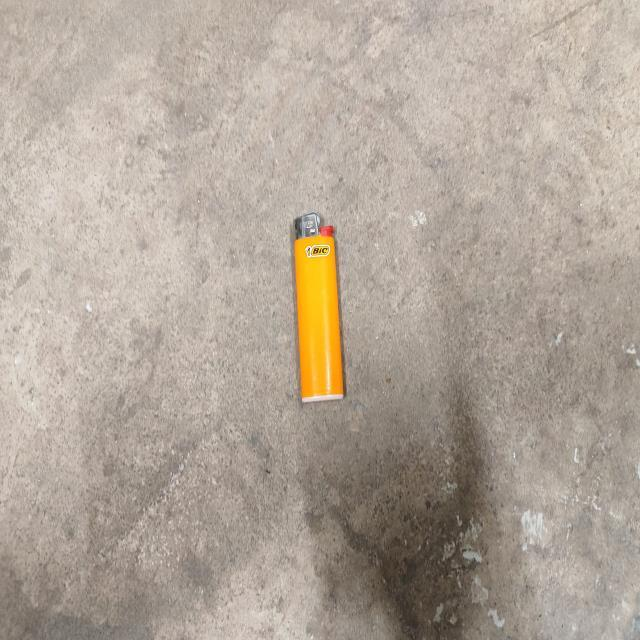lighter: (293, 211, 345, 400)
